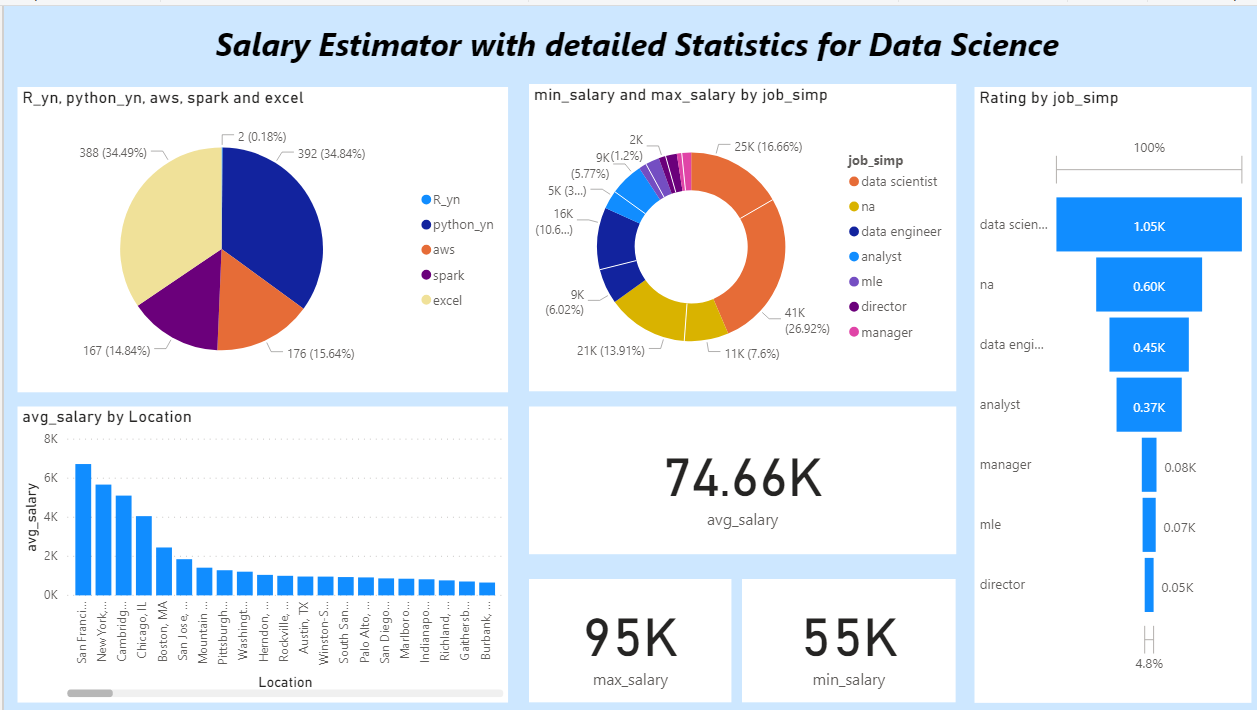

The dashboard page shown, as its layout file describes it:
{"tool":"powerbi","page":{"name":"Page 1","canvas":[1280,720],"ordinal":0},"visuals":[{"type":"pieChart","fields":{"Y":["Sum(eda_data.R_yn)","Sum(eda_data.python_yn)","Sum(eda_data.aws)","Sum(eda_data.spark)","Sum(eda_data.excel)"]},"box":[13.3,81.4,496.1,308.6],"z":0},{"type":"lineStackedColumnComboChart","fields":{"Category":["eda_data.Location"],"Y":["Sum(eda_data.avg_salary)"]},"box":[13.3,405.2,496.1,299.2],"z":1},{"type":"donutChart","fields":{"Y":["Sum(eda_data.min_salary)","Sum(eda_data.max_salary)"],"Category":["eda_data.job_simp"]},"box":[530.2,79.5,431.7,310.5],"z":2},{"type":"card","fields":{"Values":["Sum(eda_data.avg_salary)"]},"box":[530.2,405.2,431.7,149.6],"z":3},{"type":"card","fields":{"Values":["Sum(eda_data.max_salary)"]},"box":[530.2,579.4,204.5,125],"z":4},{"type":"card","fields":{"Values":["Sum(eda_data.min_salary)"]},"box":[746,579.4,215.9,125],"z":5},{"type":"funnel","fields":{"Category":["eda_data.job_simp"],"Y":["Sum(eda_data.Rating)"]},"box":[980.8,81.4,280.2,623],"z":7},{"type":"textbox","box":[0,10.6,1280,54.6],"z":8}]}

Visuals, with their boxes in screenshot pixels (x1, y1, x2, y2), scaled from the page's 1280x720 canvas onto the 1257x710 screenshot:
pieChart - Sum(eda_data.R_yn) x Sum(eda_data.python_yn): BBox(13, 80, 500, 385)
lineStackedColumnComboChart - eda_data.Location x Sum(eda_data.avg_salary): BBox(13, 400, 500, 695)
donutChart - Sum(eda_data.min_salary) x Sum(eda_data.max_salary): BBox(521, 78, 945, 385)
card - Sum(eda_data.avg_salary): BBox(521, 400, 945, 547)
card - Sum(eda_data.max_salary): BBox(521, 571, 721, 695)
card - Sum(eda_data.min_salary): BBox(733, 571, 945, 695)
funnel - eda_data.job_simp x Sum(eda_data.Rating): BBox(963, 80, 1238, 695)
textbox: BBox(0, 10, 1256, 64)
